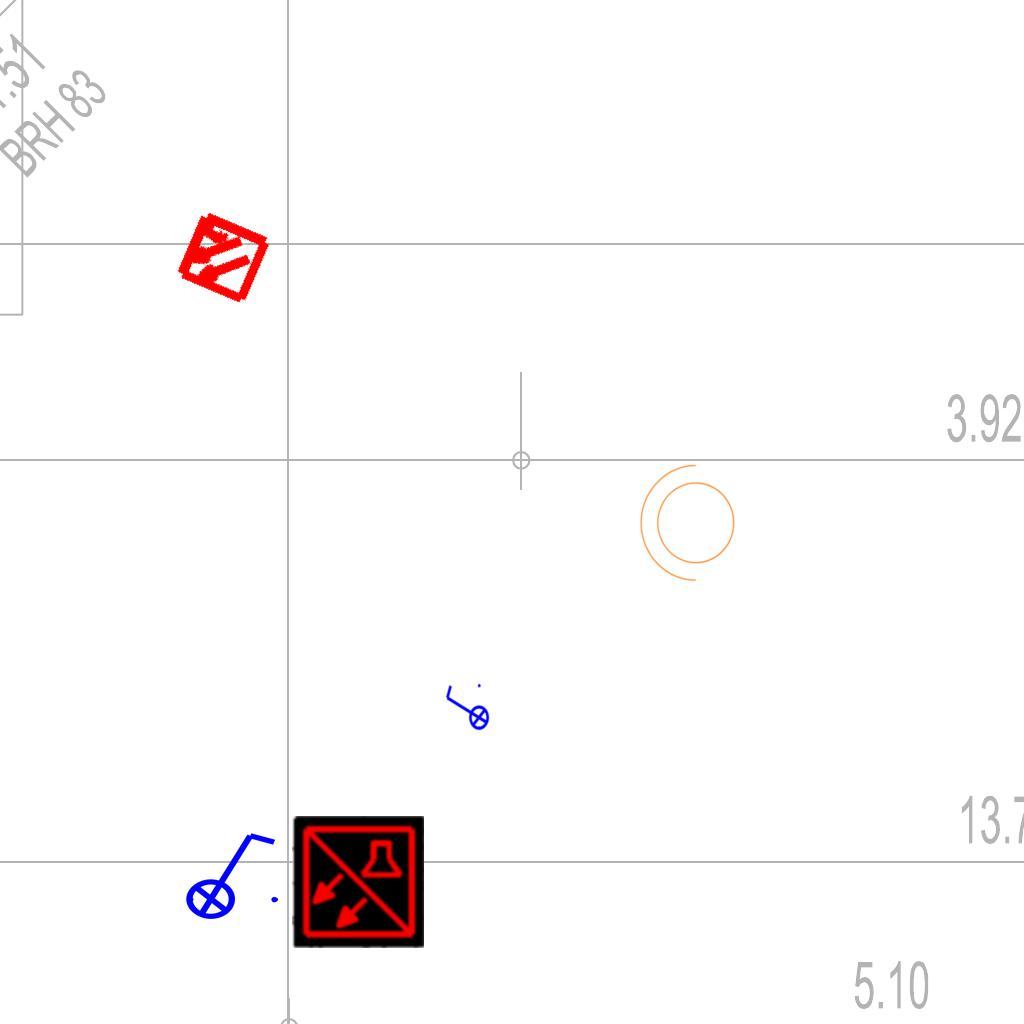Ausschalter_beleuchtet: (172, 825, 284, 921), (442, 681, 490, 737)
OKW_Multisensormelder_(Kombination_optischer_Rauch-Kahlenmonoxid_Waerme-Melder): (292, 816, 424, 948)
OT_Multisensormelder_(Kombination_RMO_WMD): (147, 182, 296, 331)
Scheinwerfer_fuer_Alarmbeleuchtung: (635, 460, 747, 592)
